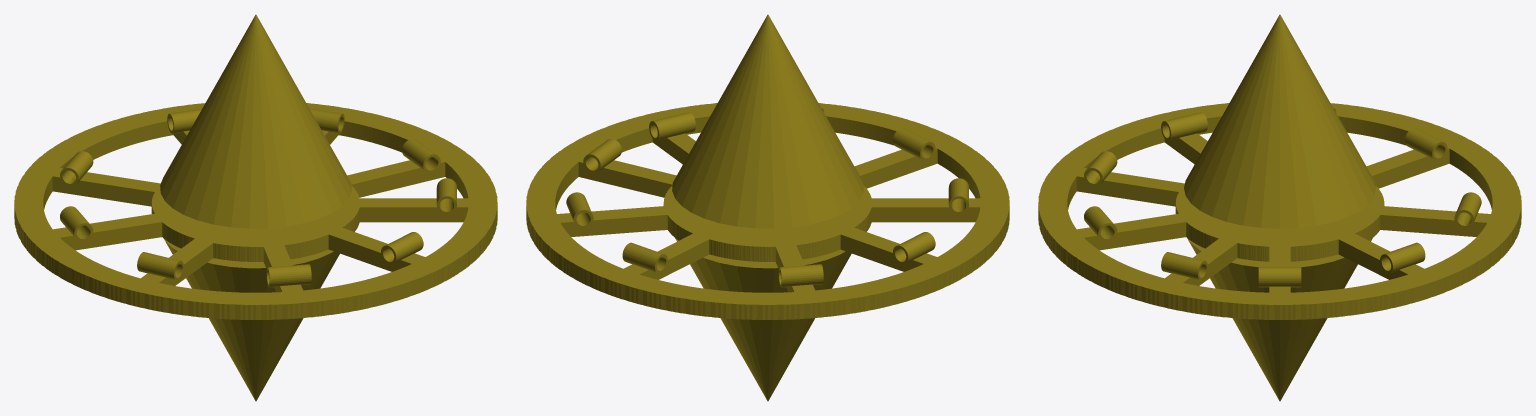
File: needle_Body.obj
The picture shows the model from 3 angles, left to right: view 1: azimuth 30°, elevation 25°; view 2: azimuth 150°, elevation 25°; view 3: azimuth 270°, elevation 25°; orthographic projection.
Parts seen in each view (by area): view 1: 円錐.001; view 2: 円錐.001; view 3: 円錐.001.
Part boxes in pixels (x1=…): 円錐.001: x1=14, y1=14, x2=497, y2=401; 円錐.001: x1=526, y1=14, x2=1009, y2=401; 円錐.001: x1=1038, y1=14, x2=1521, y2=401.
Bounding box in the file's own units: 3.36 × 2.98 × 3.36.
Materials: 1 (1 with a texture image).
